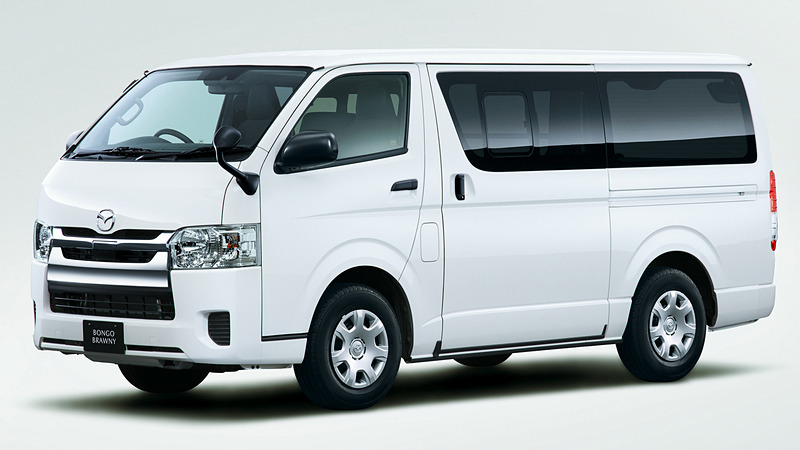van: (28, 46, 779, 414)
